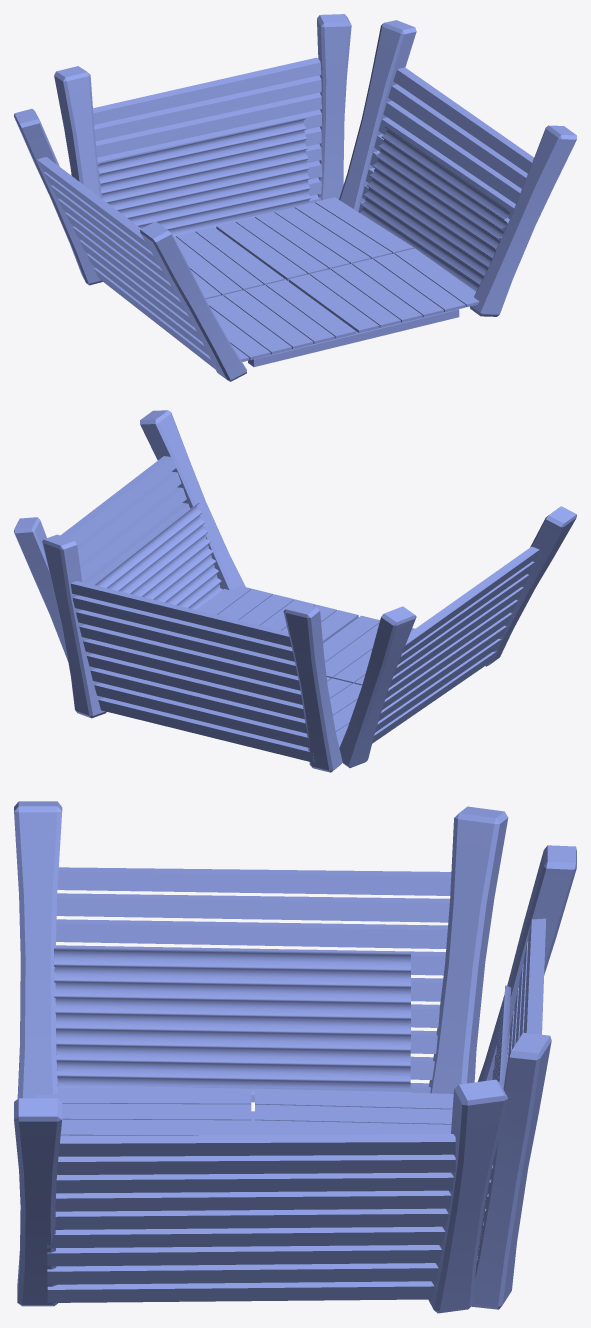
Rendered from TrenchWideThreeSide.fbx.
The picture shows the model from 3 angles, top to bottom: view 1: azimuth 30°, elevation 25°; view 2: azimuth 150°, elevation 25°; view 3: azimuth 270°, elevation 25°; orthographic projection. The views are drawn at different scales.
Parts seen in each view (by area): view 1: TrenchWide.003; view 2: TrenchWide.003; view 3: TrenchWide.003.
Part boxes in pixels (<box>): TrenchWide.003: <box>14,14,576,381</box>; TrenchWide.003: <box>14,410,576,772</box>; TrenchWide.003: <box>14,801,576,1313</box>.
Size of the model in its own units: 567 by 231 by 428.
